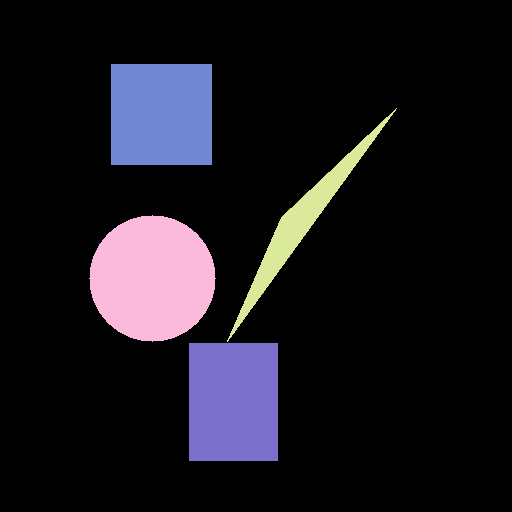circle: (89, 215, 215, 341)
rectangle: (189, 343, 277, 460)
square: (111, 64, 211, 164)
triangle: (227, 108, 396, 341)
